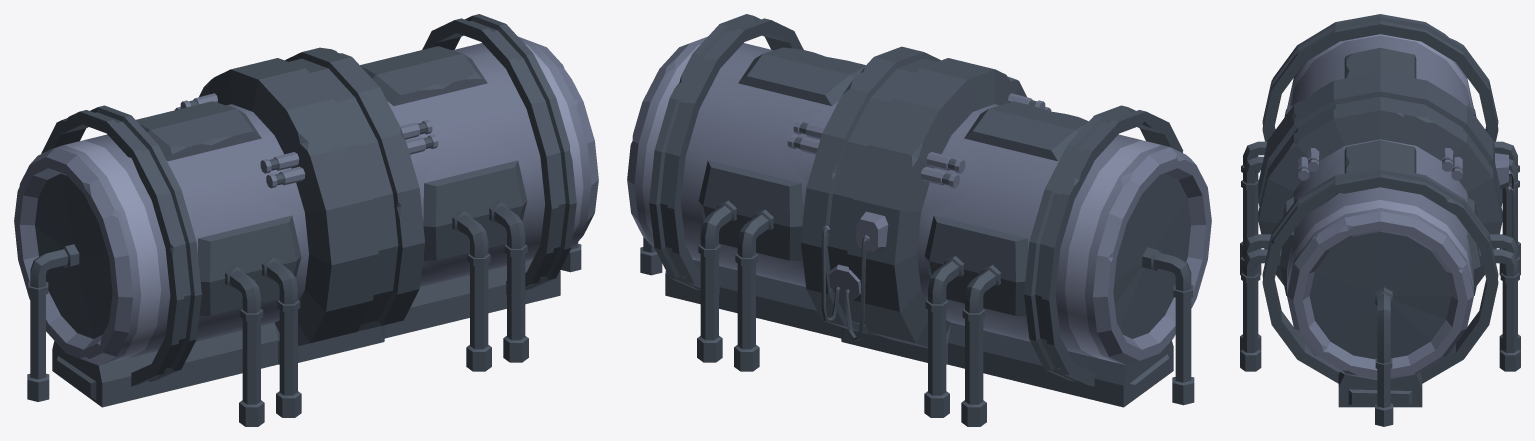
Rendered from OxygenFabricator.FBX.
3 views of the same model, side by side, from view 1: azimuth 30°, elevation 25°; view 2: azimuth 150°, elevation 25°; view 3: azimuth 270°, elevation 25° (orthographic). The views are drawn at different scales.
Parts seen in each view (by area): view 1: OxygenFabricator; view 2: OxygenFabricator; view 3: OxygenFabricator.
Part boxes in pixels (bbox=[...]): OxygenFabricator: bbox=[14, 14, 598, 426]; OxygenFabricator: bbox=[627, 14, 1211, 426]; OxygenFabricator: bbox=[1240, 14, 1520, 426].
Bounding box in the file's own units: 60.92 × 27.86 × 31.94.
